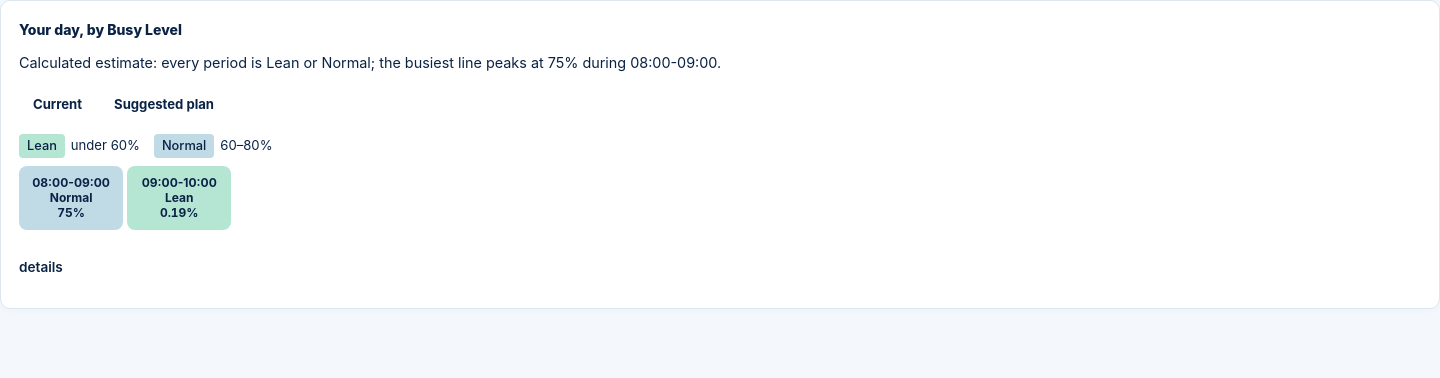
Test: Busy Level grid › separate Suggested plan: uses peak_util, says per-cashier plan values are not available, and states the target
Click the button "Suggested plan": (164,104) [100,82,228,126]
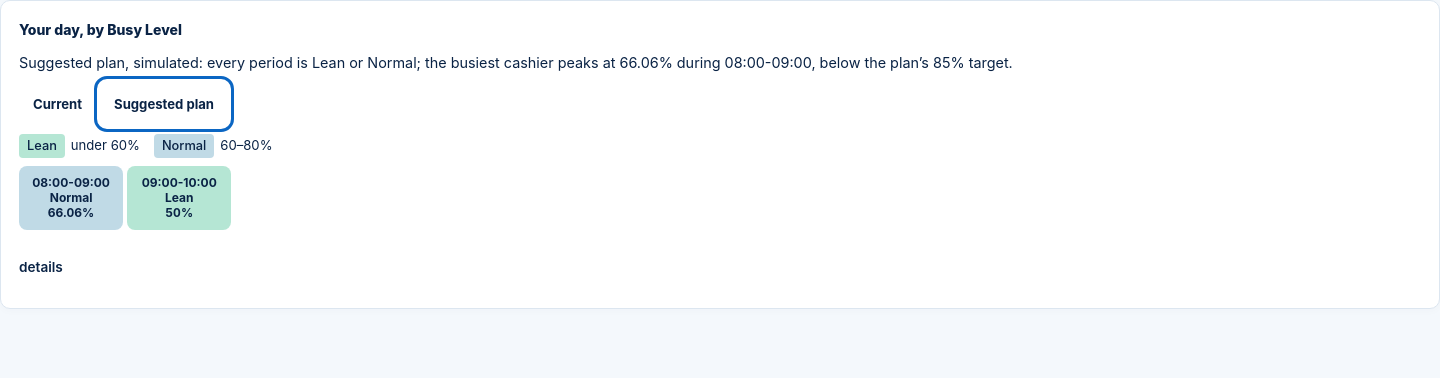
Expected: the buttons read "08:00-09:00Normal66.06%", "09:00-10:00Lean50%", in this order
Expected: the text "Suggested plan, simulated: every period is Lean or Normal; the busiest cashier peaks at 66.06% during 08:00-09:00, below" is shown, [19,54,1013,71]
Click the button "09:00-10:00 Lean 50%": (179,198) [127,166,231,230]
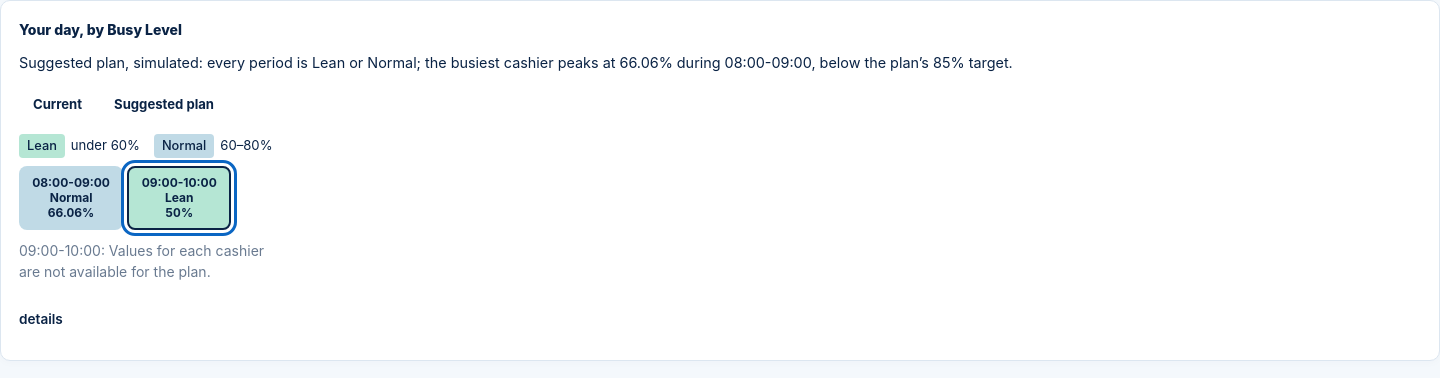
Expected: the text "09:00-10:00: Values for each cashier are not available for the plan." is shown, [19,240,275,282]
